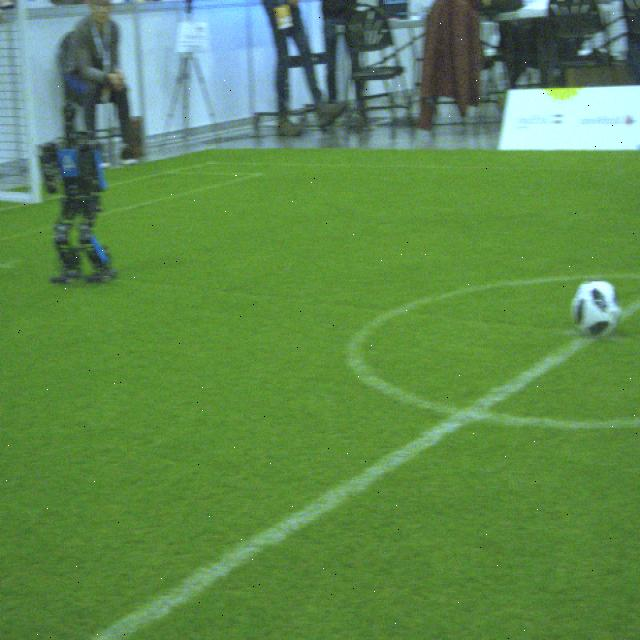ball: (571, 278, 619, 342)
goalpost: (17, 0, 43, 201)
